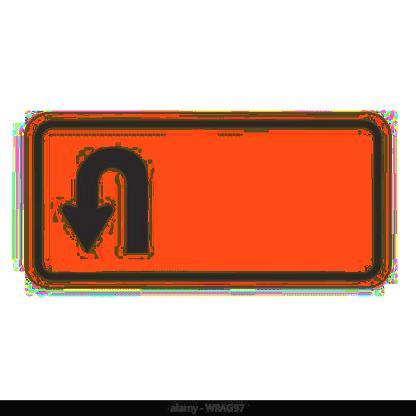U-turn: (51, 128, 171, 272)
